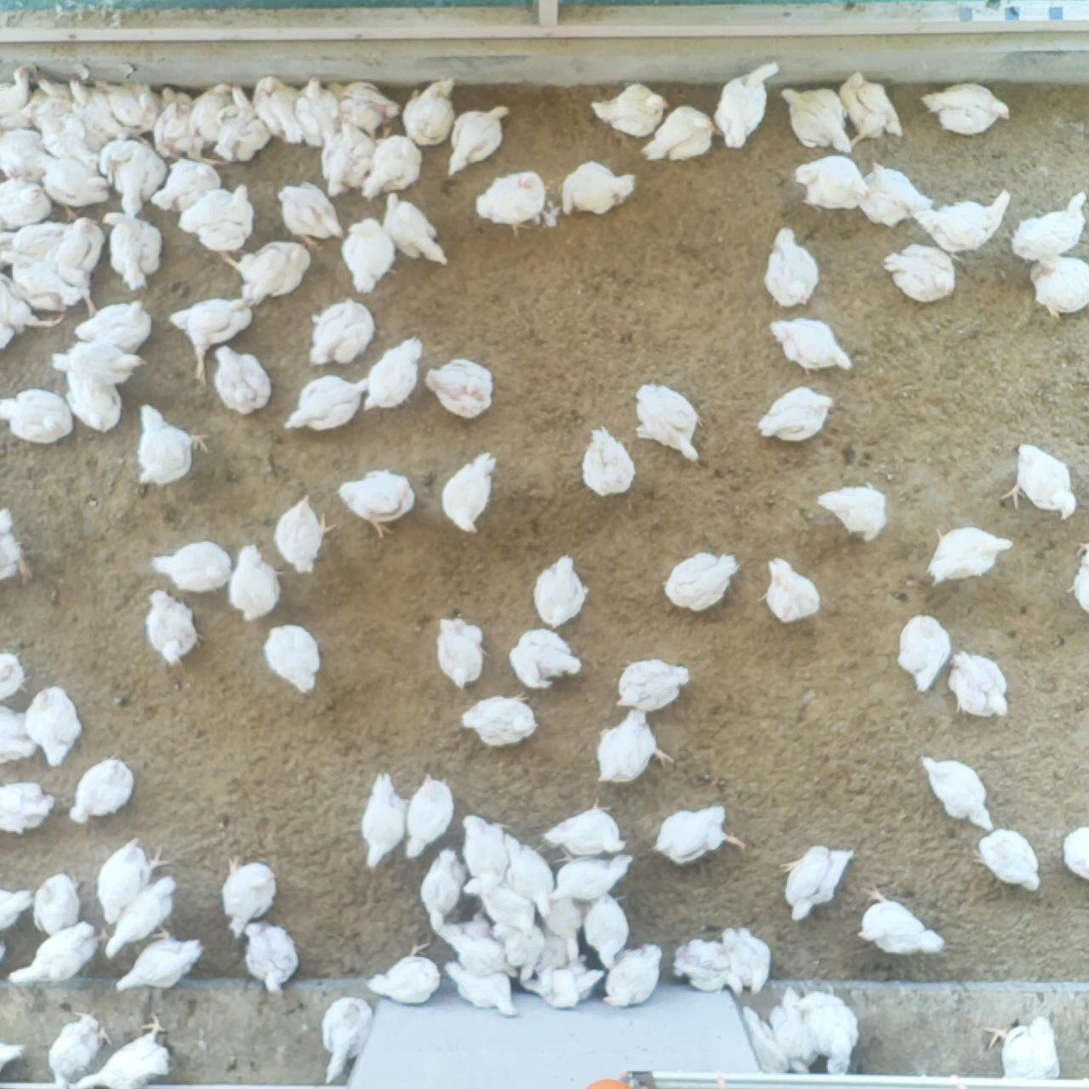chicken: (16, 219, 108, 311), (73, 1010, 168, 1087), (6, 922, 110, 991), (180, 182, 255, 272), (102, 876, 178, 961), (137, 403, 213, 487), (96, 840, 168, 927), (779, 846, 861, 921), (20, 214, 114, 279), (49, 350, 123, 432), (29, 140, 111, 214), (632, 383, 704, 467), (594, 707, 672, 783), (648, 804, 746, 864), (716, 61, 784, 147), (174, 299, 242, 385), (917, 194, 1010, 256), (334, 469, 414, 539), (926, 522, 1014, 585), (1003, 445, 1076, 519), (860, 887, 941, 953), (369, 936, 443, 1007), (922, 756, 994, 828), (924, 80, 1011, 139), (151, 87, 218, 163), (110, 937, 202, 992), (1013, 191, 1087, 259), (322, 997, 376, 1089), (436, 924, 521, 982), (505, 628, 582, 692), (769, 316, 851, 375), (104, 212, 170, 285), (441, 451, 498, 535), (145, 591, 206, 669), (860, 163, 936, 225), (418, 848, 474, 932), (50, 1010, 110, 1088), (985, 1012, 1058, 1076), (2, 273, 61, 352), (839, 71, 901, 146), (800, 992, 857, 1073), (359, 771, 406, 869), (760, 228, 819, 306), (275, 494, 336, 568), (238, 921, 298, 996), (274, 182, 341, 249), (281, 375, 364, 429), (26, 688, 83, 765), (443, 960, 521, 1016), (2, 385, 72, 447), (217, 88, 273, 165), (782, 88, 850, 151), (886, 242, 955, 304), (225, 544, 282, 619), (239, 243, 314, 300), (561, 160, 637, 216), (641, 104, 715, 161), (449, 105, 509, 175), (251, 75, 311, 145), (898, 613, 951, 692), (224, 857, 275, 939), (461, 693, 537, 748), (506, 833, 555, 918), (68, 81, 133, 145), (945, 653, 1008, 719), (71, 756, 137, 819), (476, 170, 543, 232), (818, 482, 887, 542), (362, 338, 419, 410), (754, 558, 820, 620), (974, 830, 1041, 891), (384, 194, 445, 261), (265, 625, 322, 696), (551, 856, 637, 903), (459, 814, 510, 893), (577, 895, 630, 971), (192, 79, 253, 145), (761, 388, 832, 444), (533, 556, 588, 628), (151, 543, 235, 590), (425, 358, 493, 416), (408, 775, 455, 858), (663, 553, 735, 607), (154, 157, 223, 213), (675, 941, 744, 996), (521, 961, 605, 1006), (801, 154, 869, 209), (364, 134, 423, 197), (602, 943, 660, 1006), (591, 84, 664, 134), (1033, 252, 1089, 317), (328, 77, 398, 129), (577, 427, 632, 493), (216, 347, 271, 413), (401, 80, 456, 146), (32, 868, 81, 942), (773, 985, 814, 1073), (618, 659, 687, 711), (31, 67, 79, 139), (738, 1004, 788, 1073), (437, 617, 486, 687), (480, 881, 534, 944), (496, 918, 547, 984), (344, 218, 391, 288), (721, 927, 771, 992), (96, 82, 162, 129), (295, 76, 339, 145), (75, 301, 127, 359), (1, 505, 38, 585), (539, 888, 581, 957), (1, 784, 55, 835), (2, 181, 48, 237), (1, 700, 37, 760), (3, 127, 44, 177), (531, 931, 567, 985), (1, 881, 31, 936), (1, 66, 36, 112), (1, 651, 31, 698), (1071, 538, 1089, 613), (1063, 826, 1089, 877), (2, 1032, 30, 1069), (1, 935, 6, 962)
